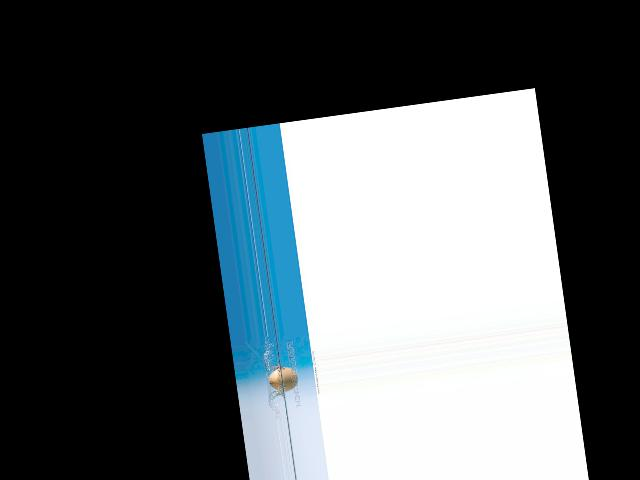egg: (267, 365, 299, 393)
